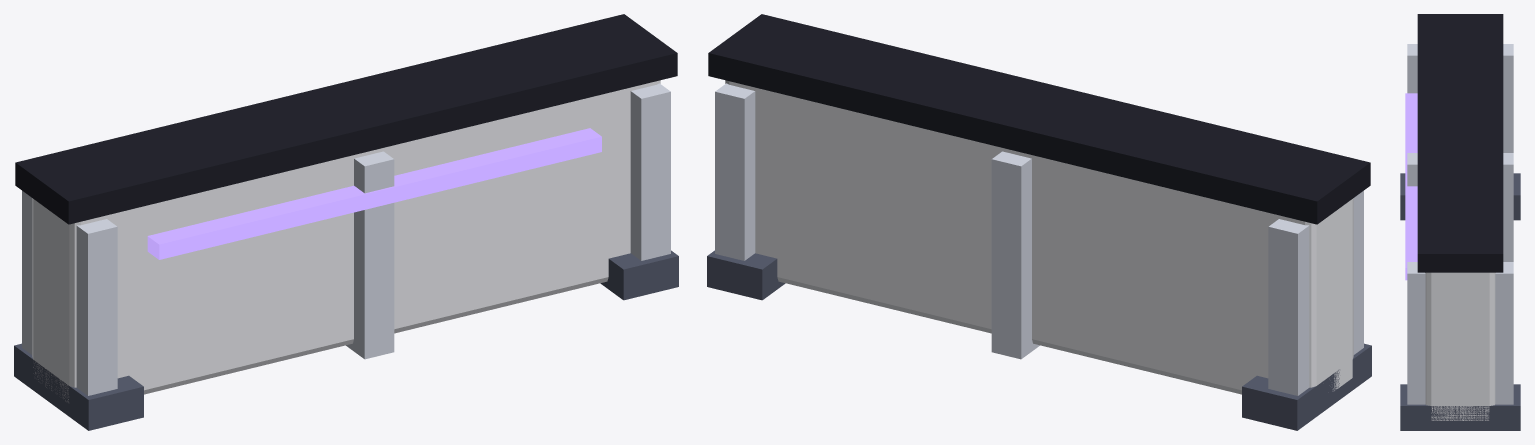
Rendered from city_barrier.glb.
3 renders of one model, left to right at view 1: azimuth 30°, elevation 25°; view 2: azimuth 150°, elevation 25°; view 3: azimuth 270°, elevation 25°, orthographic. The views are drawn at different scales.
Parts seen in each view (by area): view 1: city_barrier; view 2: city_barrier; view 3: city_barrier.
Part boxes in pixels (left/top/right/bottom): city_barrier: left=14, top=14, right=678, bottom=430; city_barrier: left=707, top=14, right=1371, bottom=430; city_barrier: left=1400, top=14, right=1520, bottom=430.
Size of the model in its own units: 3.3 by 1.16 by 0.7.
